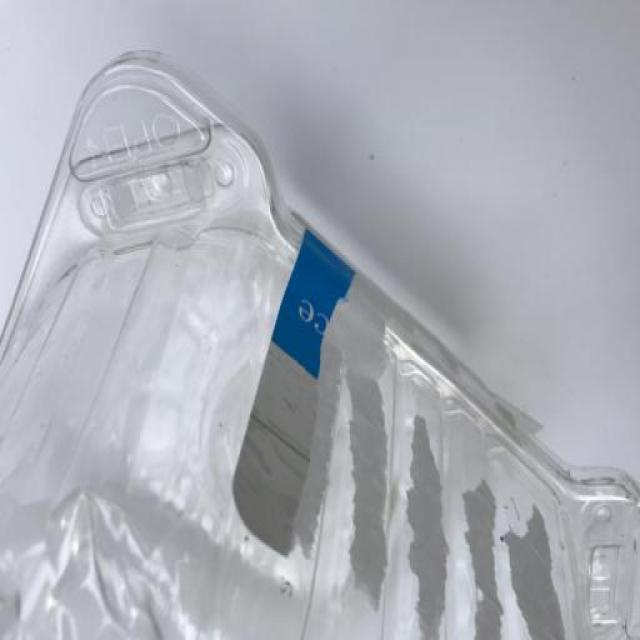plastic: (0, 46, 639, 638)
